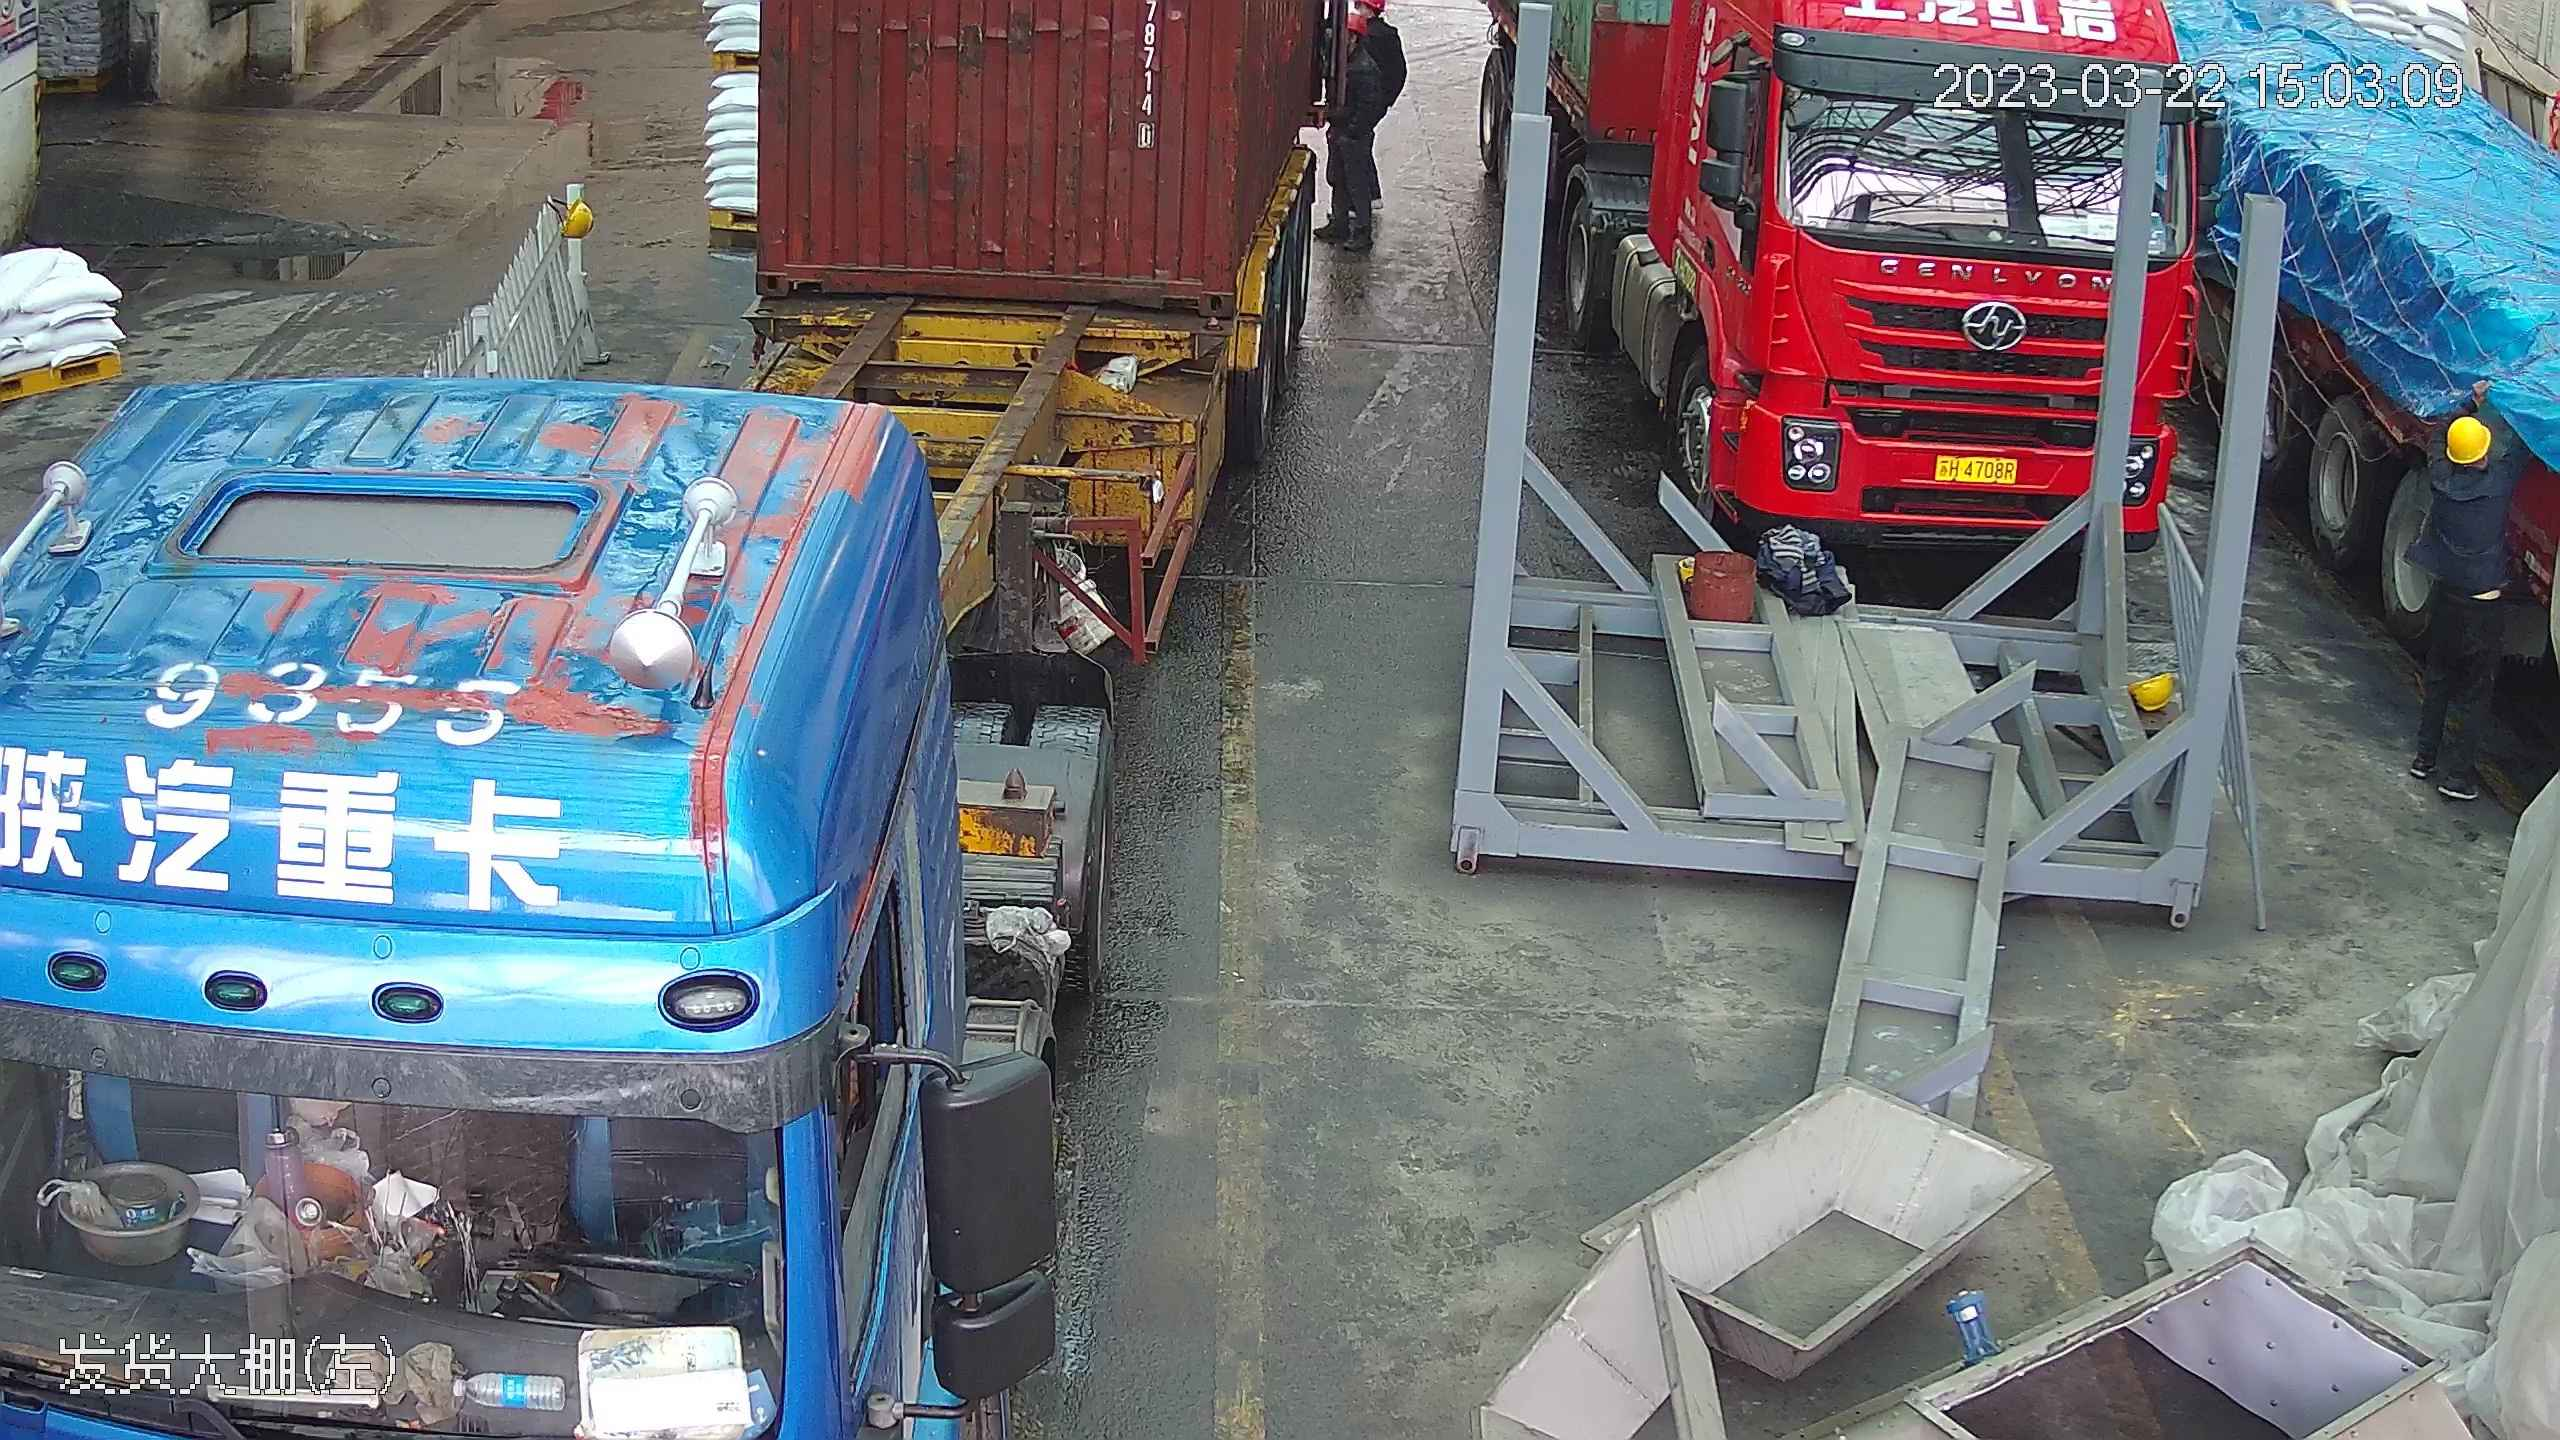head: (2412, 414, 2511, 535)
helmet: (2444, 412, 2493, 465), (559, 195, 594, 234)
people: (2403, 404, 2546, 796), (1329, 2, 1403, 242)
truck: (4, 366, 1086, 1431), (1529, 1, 2220, 600)
